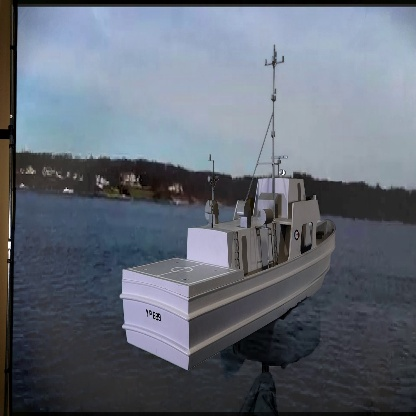YP689: (116, 32, 337, 372)
